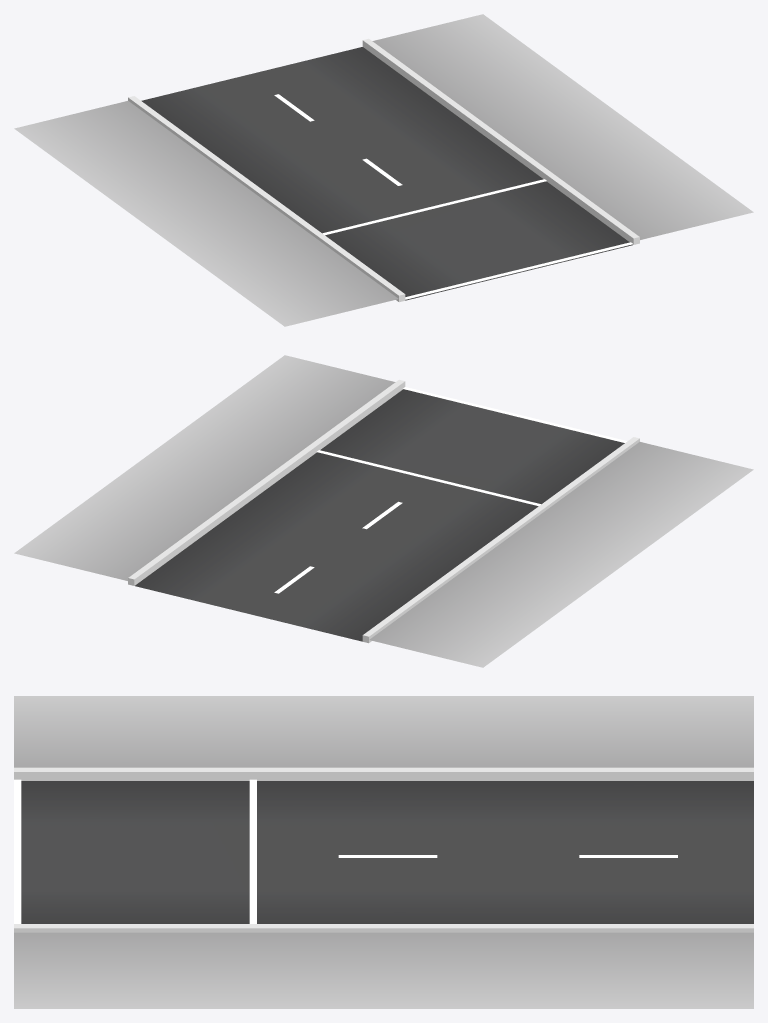
The model's file is city2-road-022.glb.
3 renders of one model, top to bottom at view 1: azimuth 30°, elevation 25°; view 2: azimuth 150°, elevation 25°; view 3: azimuth 270°, elevation 25°, orthographic. The views are drawn at different scales.
Visible parts, largest first — view 1: road_022; view 2: road_022; view 3: road_022.
Part boxes in pixels (box(x1,y1,x2,y2)): road_022: box(14, 14, 753, 326); road_022: box(14, 355, 753, 667); road_022: box(14, 696, 753, 1008).
Bounding box in the file's own units: 15 × 0.2 × 15.
1 material, 1 textured.
